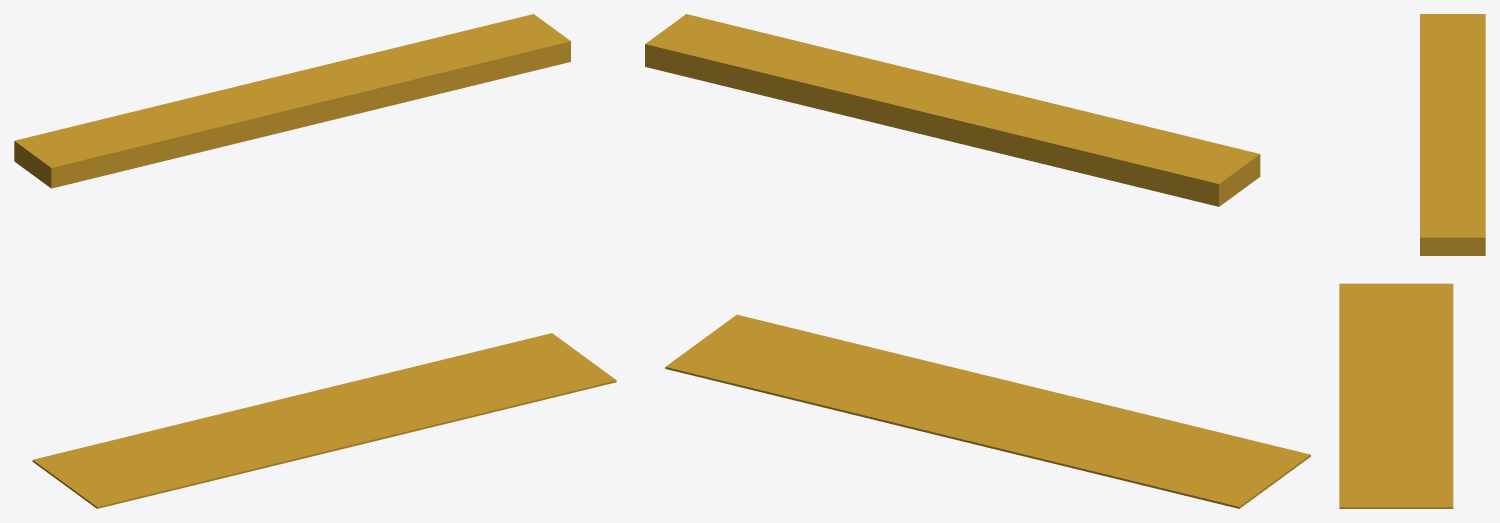
File: door.security_gate.glb
3 views of the same model, side by side, from view 1: azimuth 30°, elevation 25°; view 2: azimuth 150°, elevation 25°; view 3: azimuth 270°, elevation 25° (orthographic). The views are drawn at different scales.
Parts seen in each view (by area): view 1: floor_warn, amber_header; view 2: floor_warn, amber_header; view 3: floor_warn, amber_header.
Boxes of the visible parts, bbox=[...] form: floor_warn: bbox=[32, 333, 616, 508]; amber_header: bbox=[14, 14, 570, 188]; floor_warn: bbox=[665, 314, 1310, 508]; amber_header: bbox=[645, 14, 1260, 206]; floor_warn: bbox=[1339, 283, 1453, 508]; amber_header: bbox=[1420, 14, 1485, 255].
Size of what is drawn, in the model's own units: 5.8 by 3.28 by 1.61.
